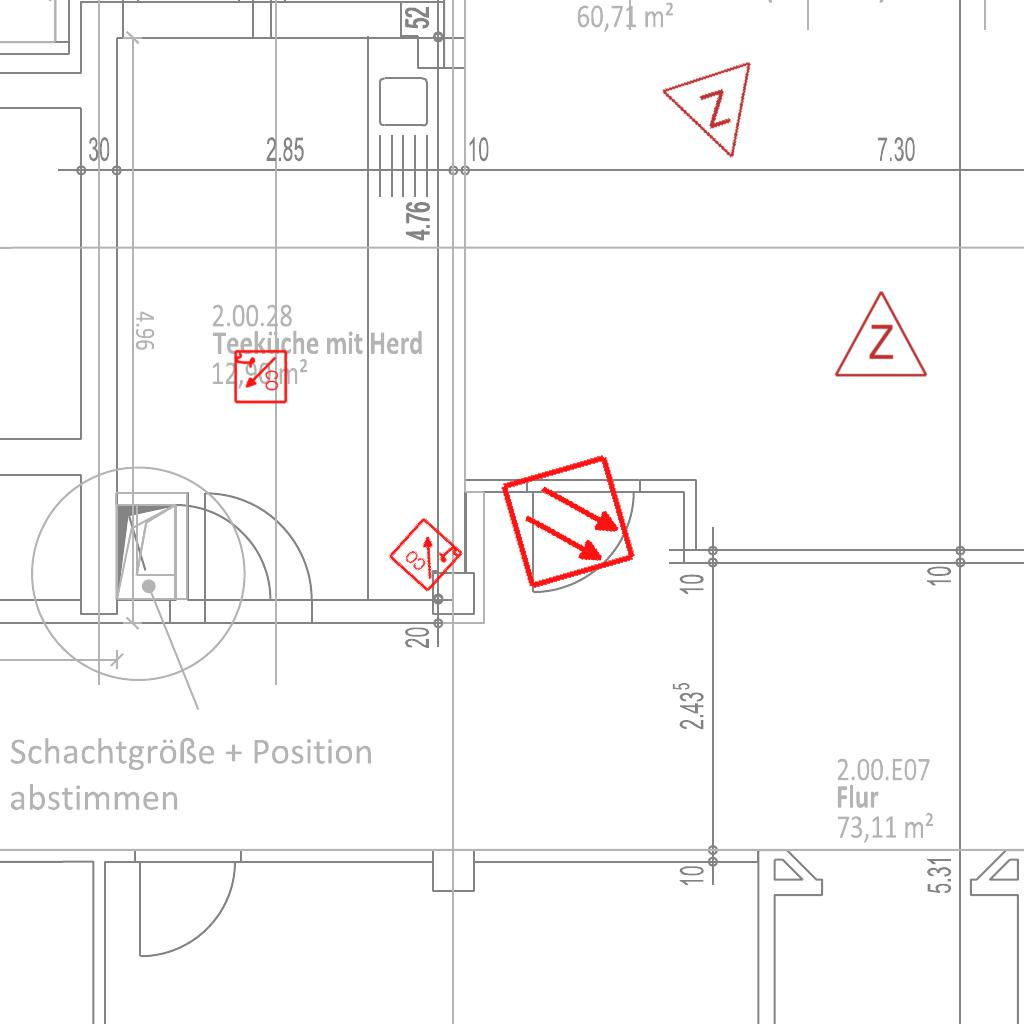RMO_Rauchmelder_optischer: (498, 451, 639, 592)
ROA_Rauchmelder_optisch_mit_Signalgeber_(Sockelsirene): (386, 514, 466, 594), (232, 349, 288, 405)
Zimmersignalleuchte: (657, 53, 783, 179), (831, 284, 929, 384)
